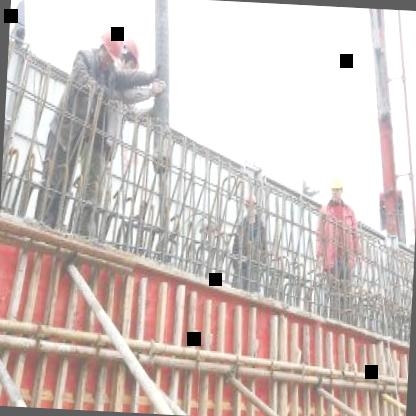helmet: (115, 31, 144, 78), (95, 24, 124, 70), (325, 166, 349, 206)
